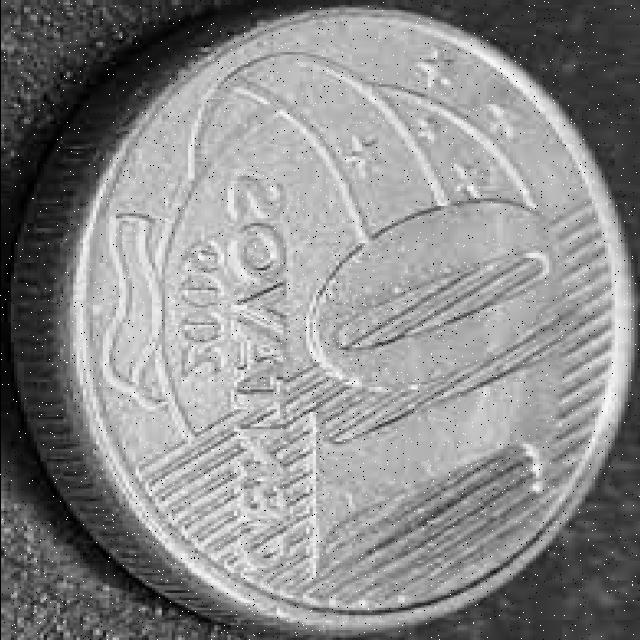10 cent: (26, 12, 630, 616)
